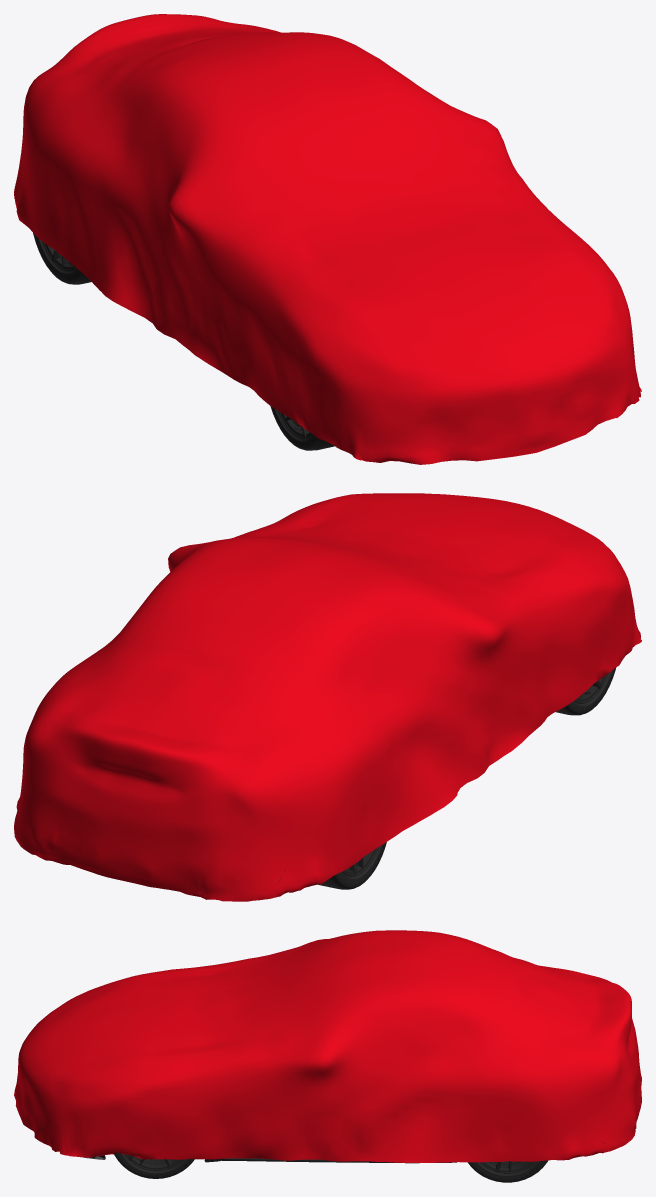
File: teste 2 (1).glb
The picture shows the model from 3 angles, top to bottom: view 1: azimuth 30°, elevation 25°; view 2: azimuth 150°, elevation 25°; view 3: azimuth 270°, elevation 25°; orthographic projection. The views are drawn at different scales.
Parts seen in each view (by area): view 1: Cube, Paint_Paint_0; view 2: Cube, Paint_Paint_0; view 3: Cube, Paint_Paint_0.
Part boxes in pixels (bbox=[...]): Cube: bbox=[14, 14, 641, 464]; Paint_Paint_0: bbox=[16, 183, 348, 452]; Cube: bbox=[14, 493, 641, 901]; Paint_Paint_0: bbox=[279, 667, 616, 889]; Cube: bbox=[14, 930, 641, 1162]; Paint_Paint_0: bbox=[85, 1142, 605, 1182].
Bounding box in the file's own units: 2.08 × 1.36 × 4.41.
Materials: 16 (7 with a texture image).
